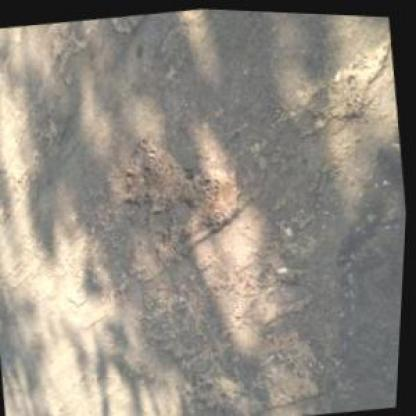pothole: (319, 28, 399, 125), (115, 128, 191, 219), (182, 156, 248, 232)
